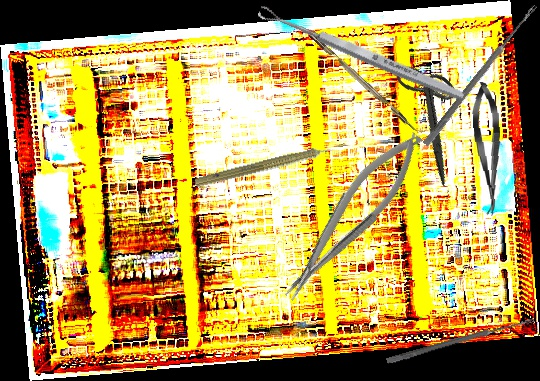Chopper: (309, 27, 427, 139)
Handpiece: (193, 138, 346, 194)
Iris Scissors: (363, 50, 500, 187)
Micro Scissor: (470, 81, 506, 217)
Needle Holder: (267, 123, 436, 308)
Surgical Spoon: (256, 3, 467, 104), (422, 2, 539, 148), (385, 316, 536, 365)
